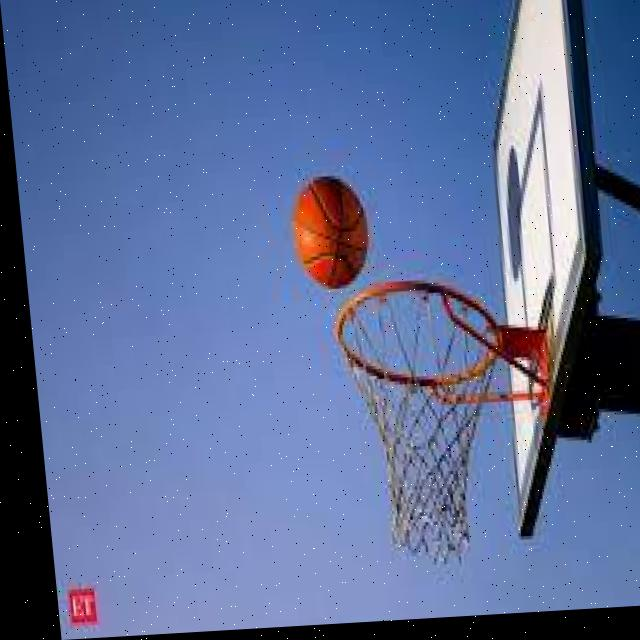basketball: (288, 174, 373, 291)
hoop: (333, 273, 520, 566)
